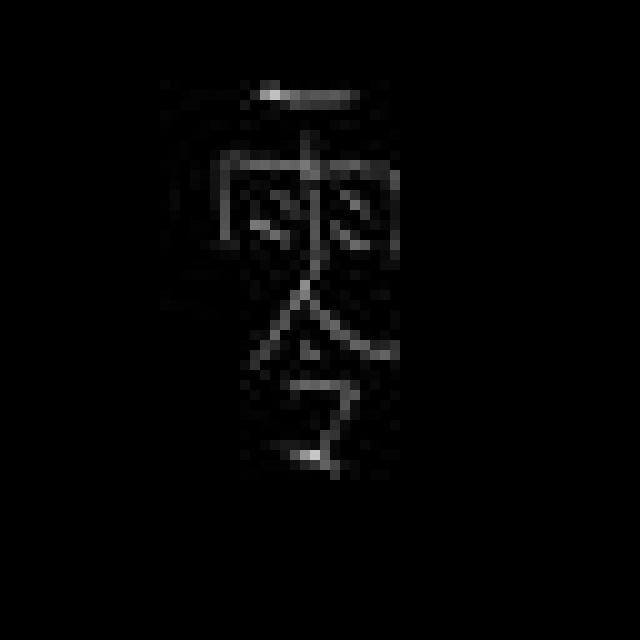0 -zero-: (208, 72, 418, 487)
